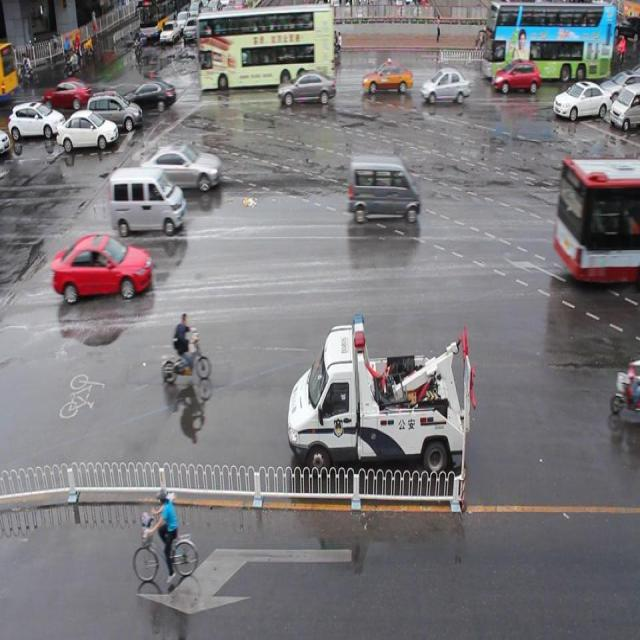car: (54, 234, 153, 301), (140, 144, 220, 191), (551, 78, 610, 124), (276, 71, 336, 107), (491, 61, 540, 97), (361, 61, 412, 94), (422, 67, 469, 101)
truck: (110, 166, 186, 235), (344, 154, 419, 222)
van: (554, 156, 640, 282), (196, 10, 334, 84), (482, 1, 614, 78)
